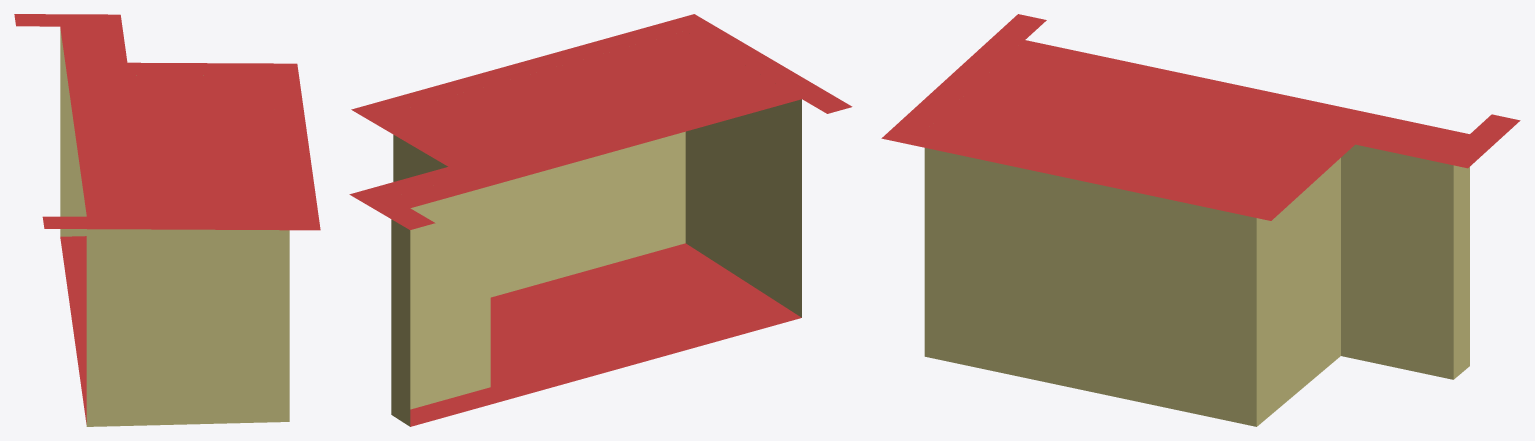
The picture shows the model from 3 angles, left to right: view 1: azimuth 30°, elevation 25°; view 2: azimuth 150°, elevation 25°; view 3: azimuth 270°, elevation 25°; orthographic projection. The views are drawn at different scales.
Size of the model in its own units: 10.86 by 14.82 by 5.97.
